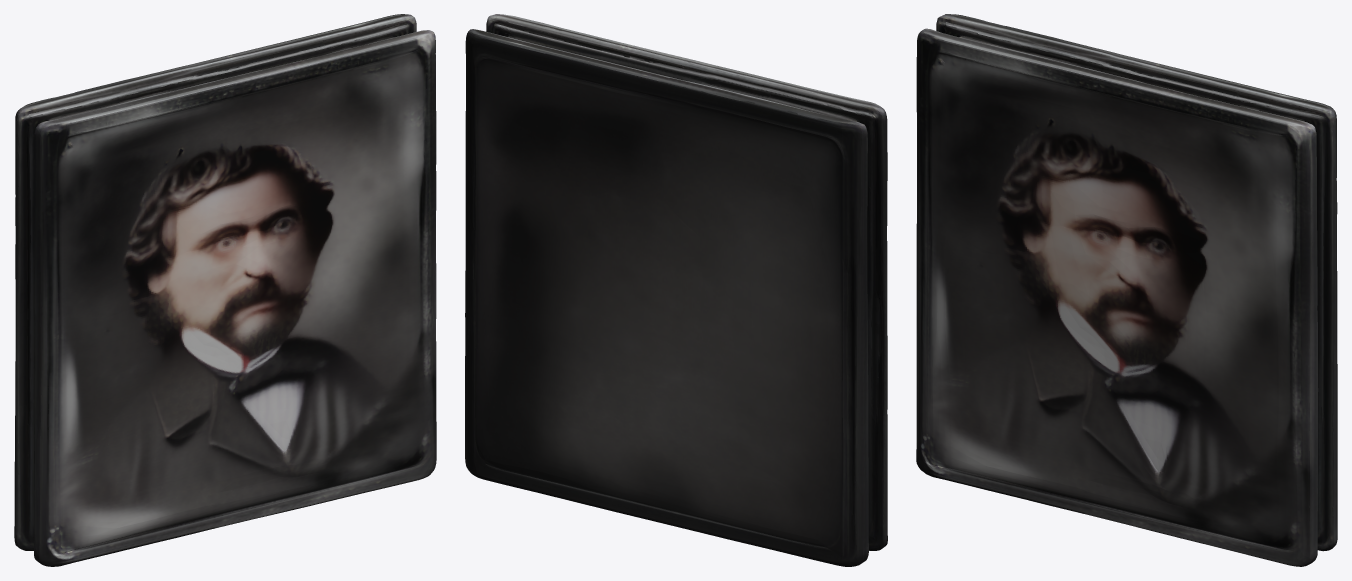
3 renders of one model, left to right at view 1: azimuth 30°, elevation 25°; view 2: azimuth 150°, elevation 25°; view 3: azimuth 330°, elevation 25°, orthographic.
Parts seen in each view (by area): view 1: world; view 2: world; view 3: world.
Part boxes in pixels (bbox=[...]): world: bbox=[14, 14, 436, 566]; world: bbox=[465, 14, 887, 566]; world: bbox=[916, 14, 1337, 566].
Size of the model in its own units: 0.9434 by 0.9977 by 0.1332.
1 material, 1 textured.
